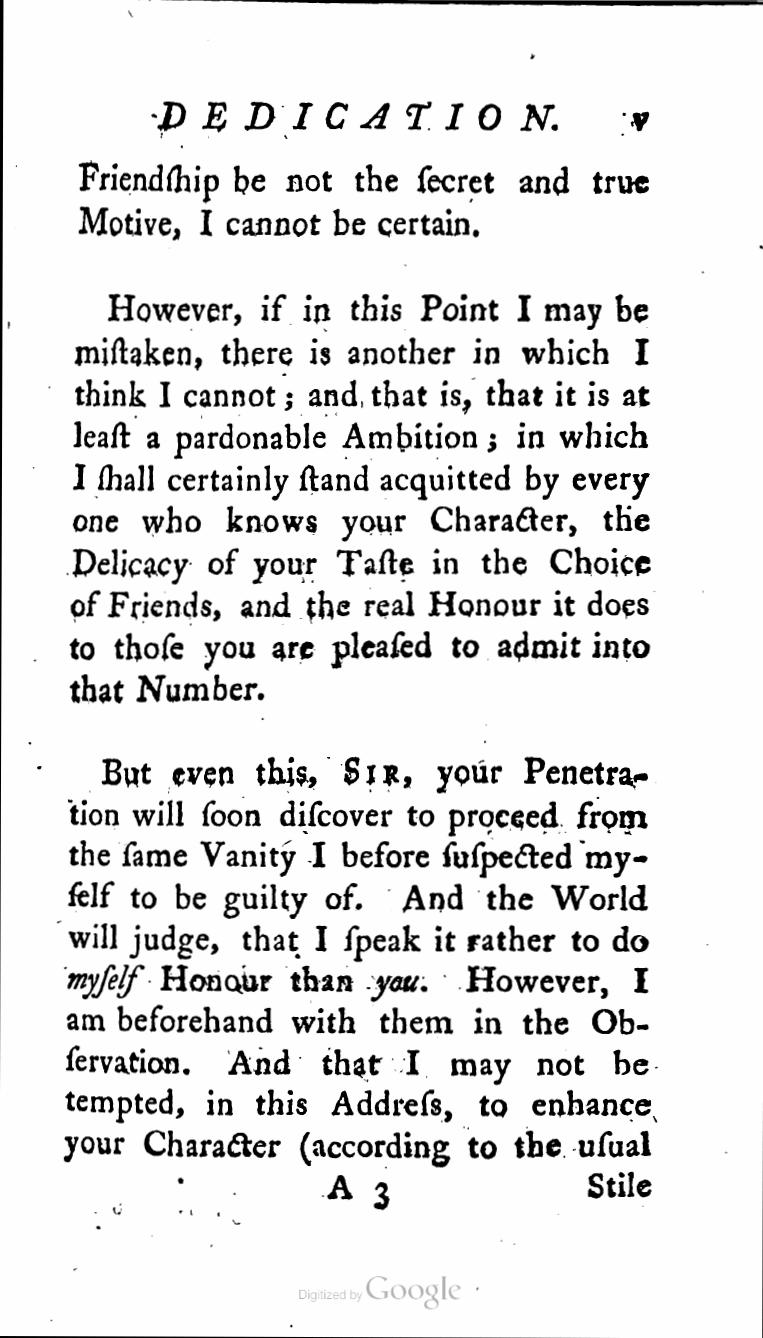bottom_p: (77, 156, 653, 243)
catchword: (584, 1170, 655, 1202)
full_p: (68, 290, 654, 706)
header: (156, 98, 561, 135)
page_num: (630, 109, 653, 134)
signature: (324, 1172, 394, 1216)
top_p: (62, 753, 657, 1168)
